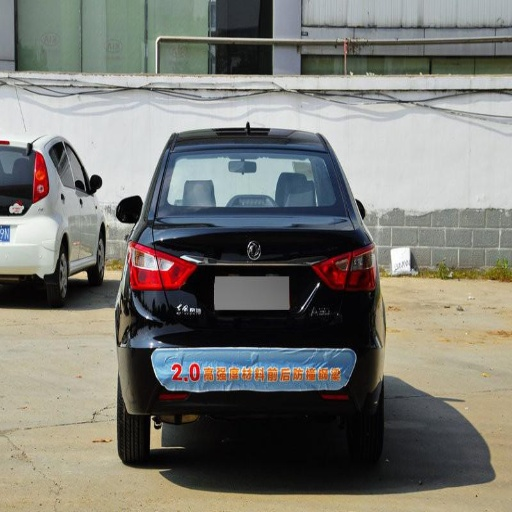back_bumper: (120, 288, 386, 414)
back_right_light: (348, 240, 375, 287)
tailgate: (228, 209, 351, 325)
trunk: (139, 207, 279, 340), (37, 98, 92, 144)
